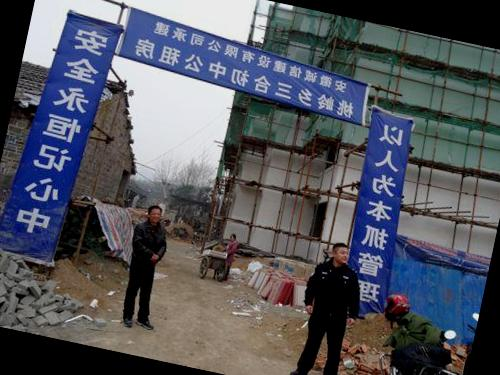no_helmet: (328, 238, 355, 268), (141, 200, 168, 228), (226, 228, 239, 244)
